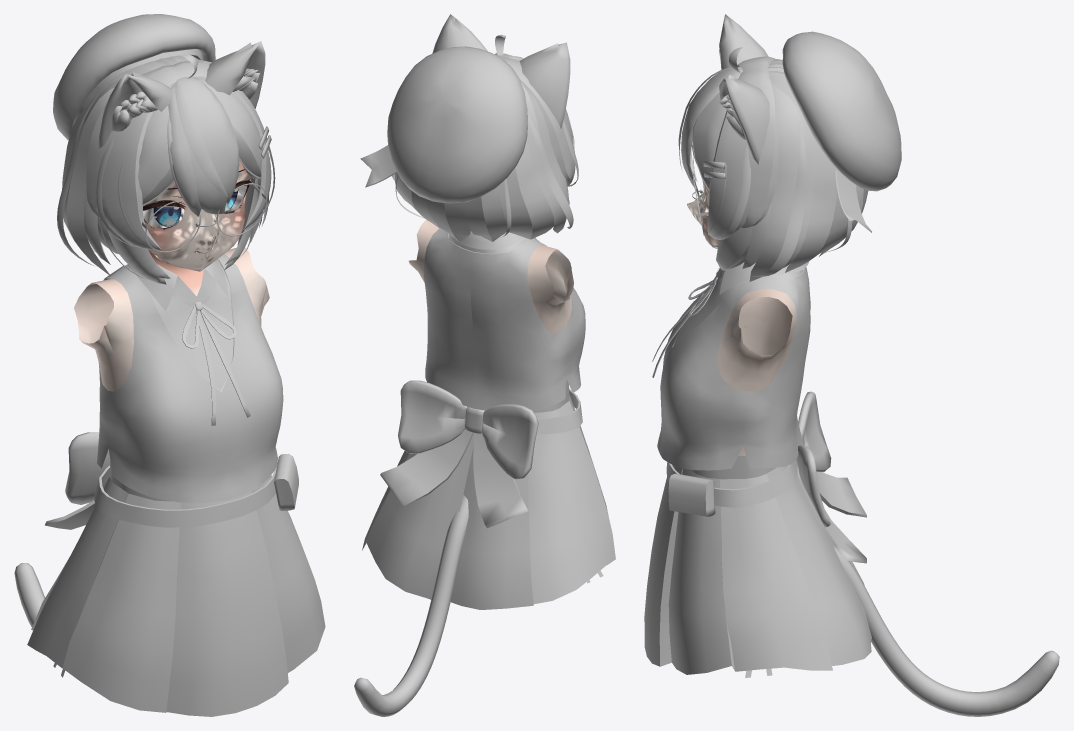
File: Koharu_Cuerpo.obj
The picture shows the model from 3 angles, left to right: view 1: azimuth 30°, elevation 25°; view 2: azimuth 150°, elevation 25°; view 3: azimuth 270°, elevation 25°; orthographic projection. The views are drawn at different scales.
Visible parts, largest first — view 1: Cuerpo_Body_큐브.002; view 2: Cuerpo_Body_큐브.002; view 3: Cuerpo_Body_큐브.002.
Part boxes in pixels (box(x1,y1,x2,y2)): Cuerpo_Body_큐브.002: box(14, 14, 325, 716); Cuerpo_Body_큐브.002: box(354, 14, 615, 716); Cuerpo_Body_큐브.002: box(644, 14, 1059, 716).
Bounding box in the file's own units: 0.287 × 0.737 × 0.4116.
